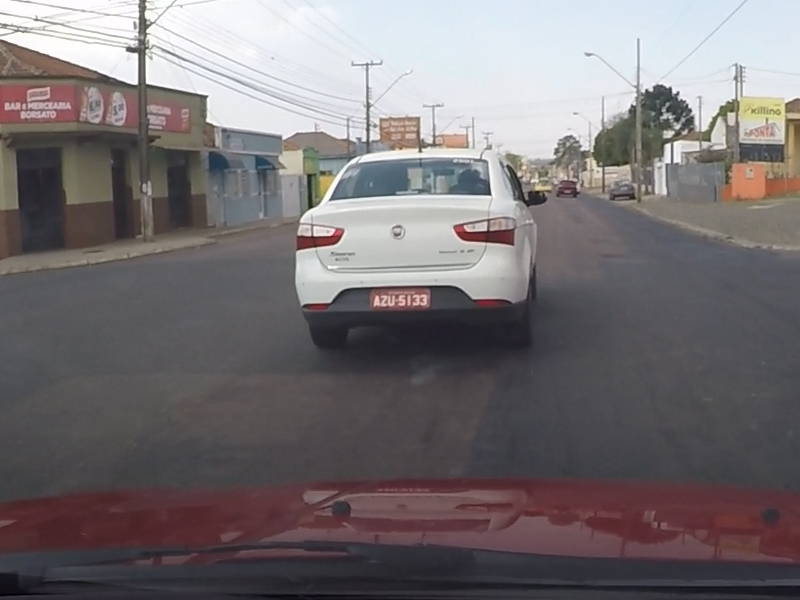placa: (369, 289, 431, 311)
